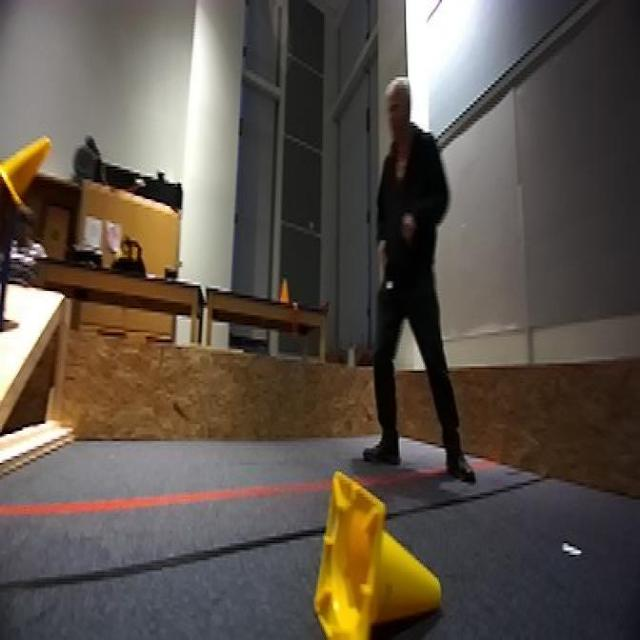frc_cone: (313, 468, 447, 640), (0, 126, 50, 213)
